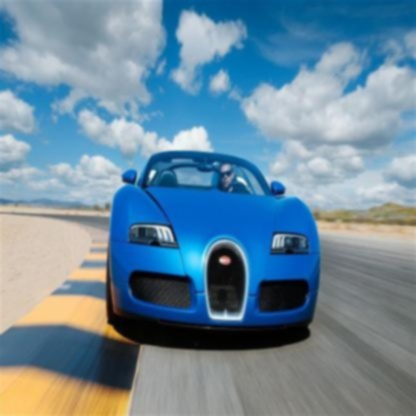Vehicle: (105, 148, 322, 340)
